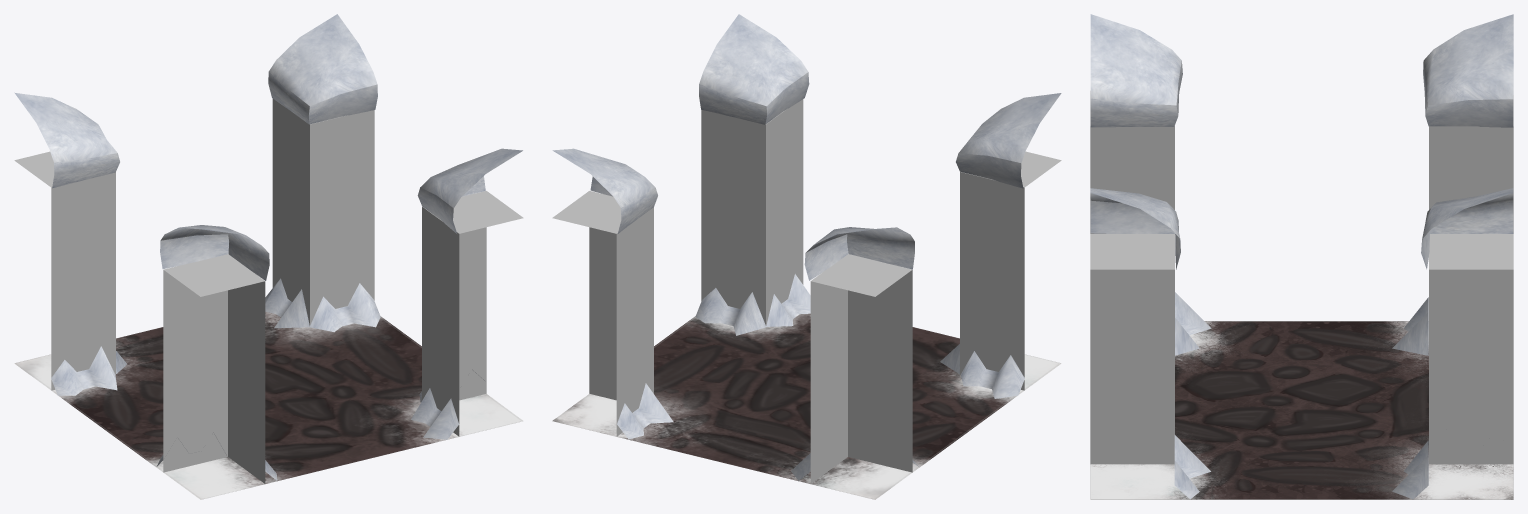
Rendered from Mod_Forzen_Four_Edges.fbx.
3 renders of one model, left to right at view 1: azimuth 30°, elevation 25°; view 2: azimuth 150°, elevation 25°; view 3: azimuth 270°, elevation 25°, orthographic. The views are drawn at different scales.
Visible parts, largest first — view 1: polySurface3; view 2: polySurface3; view 3: polySurface3.
Part boxes in pixels (x1,y1,x2,y2): polySurface3: (14,14,523,499); polySurface3: (552,14,1061,499); polySurface3: (1090,14,1513,499).
Size of the model in its own units: 100 by 79.98 by 100.
